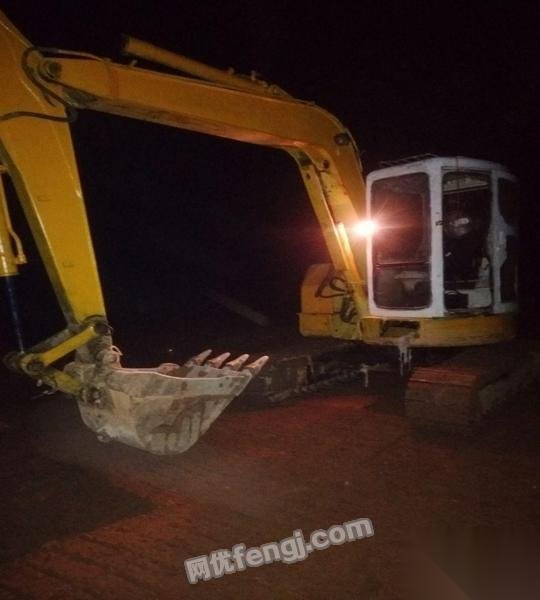excavator: (4, 16, 533, 460)
